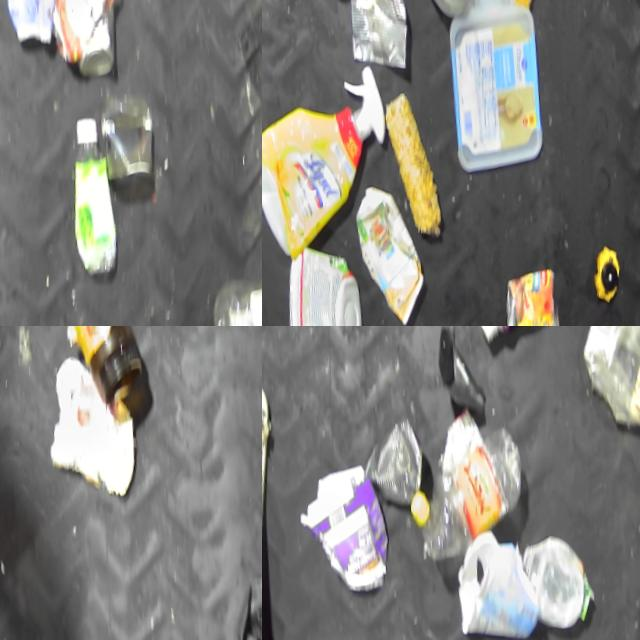can: (90, 88, 157, 183), (364, 416, 421, 505), (339, 0, 406, 68), (57, 0, 117, 74), (491, 261, 554, 326), (410, 0, 466, 20)
milk_jug: (0, 0, 64, 45)
non_white_jug: (289, 460, 388, 595)
plastic_bottle: (397, 421, 524, 565), (199, 262, 262, 326)
